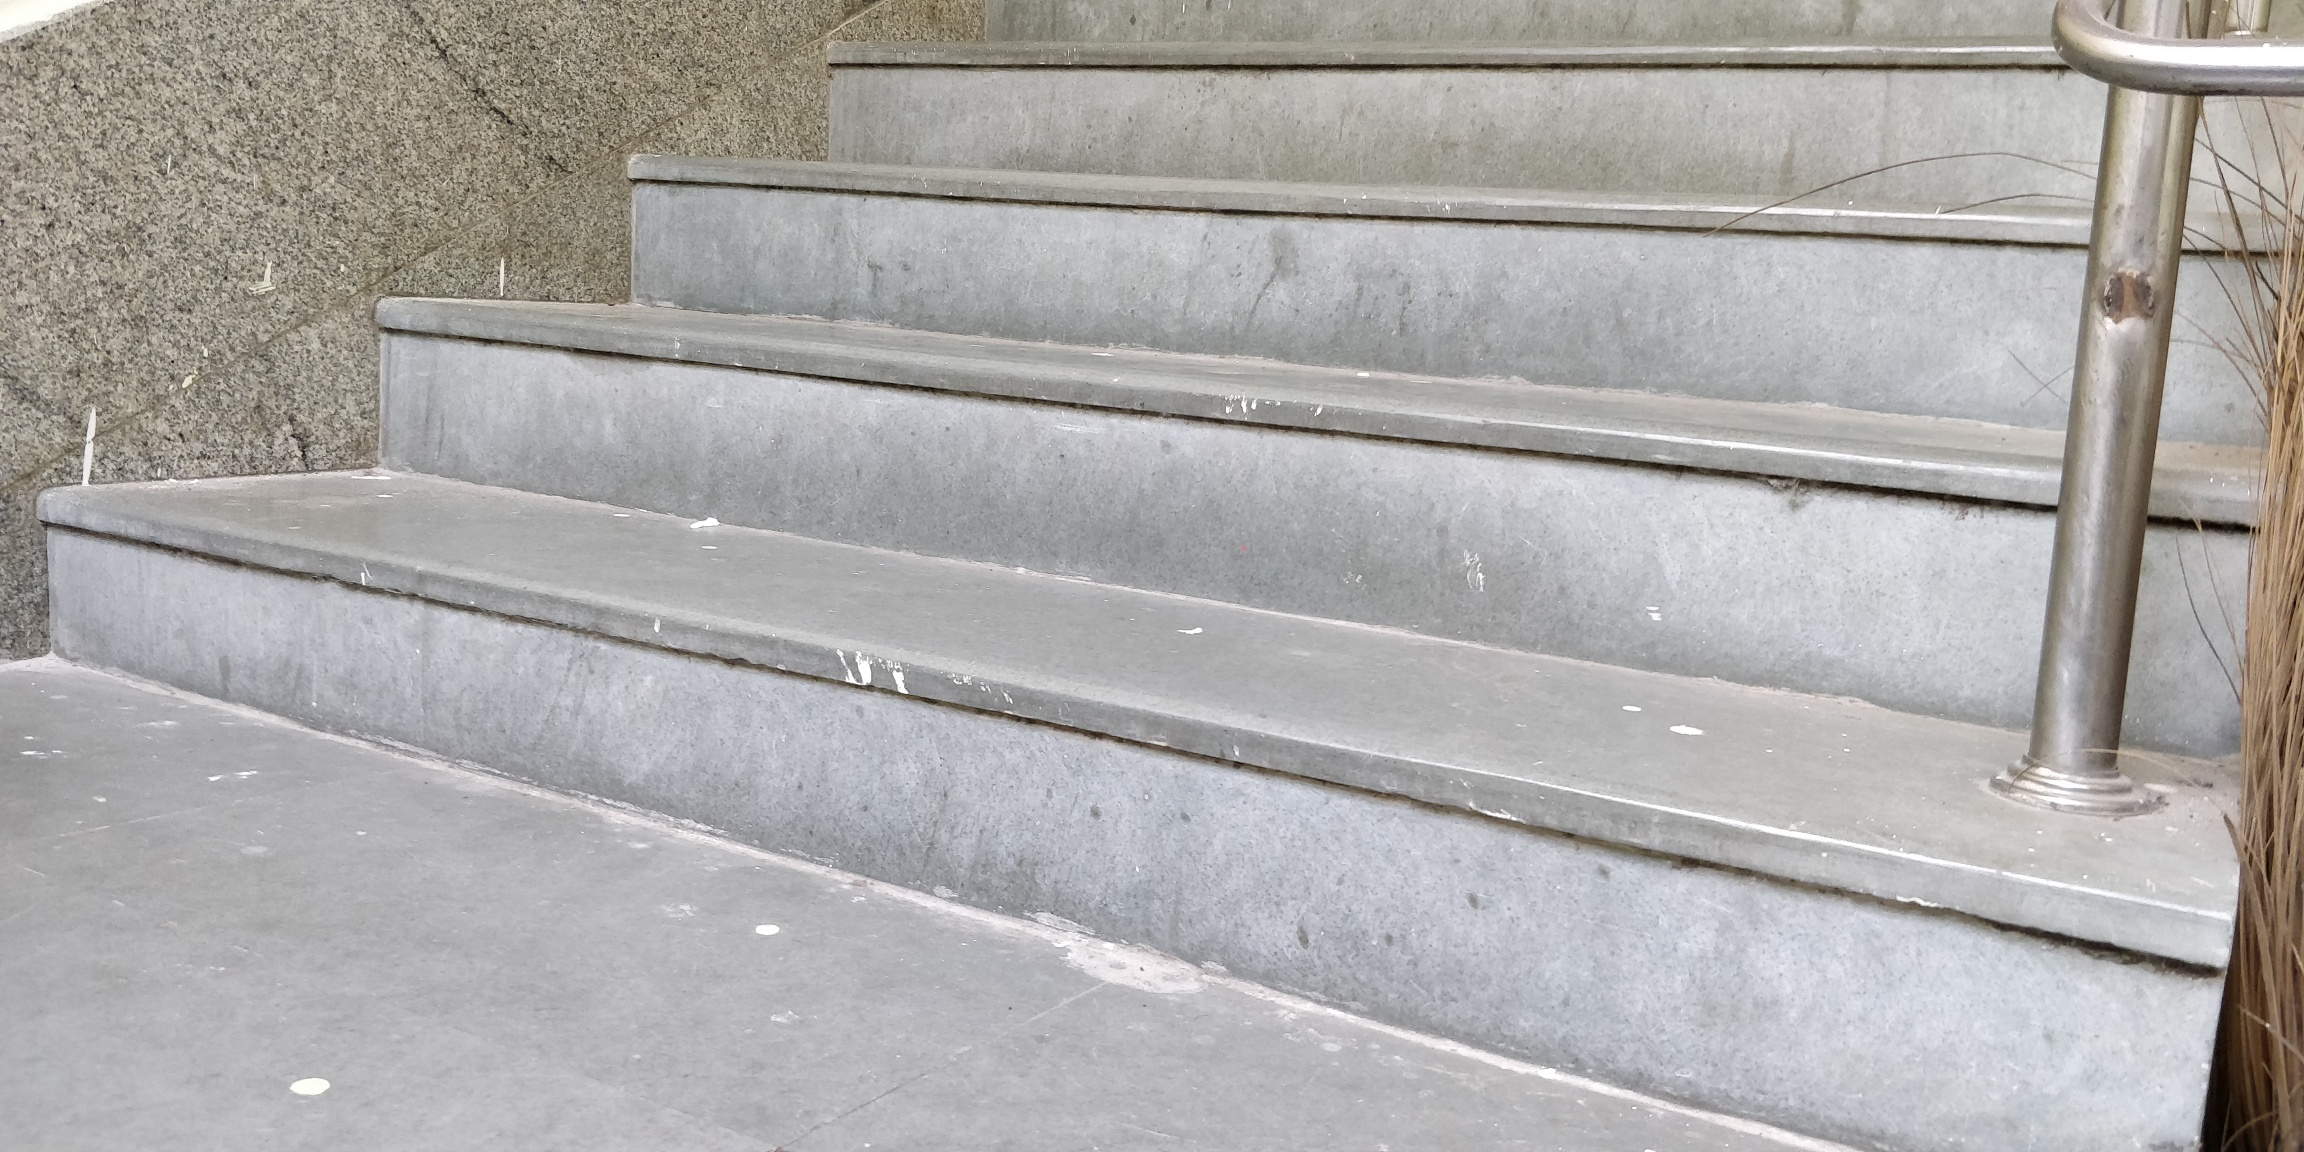stairs_up: (29, 29, 2289, 943)
